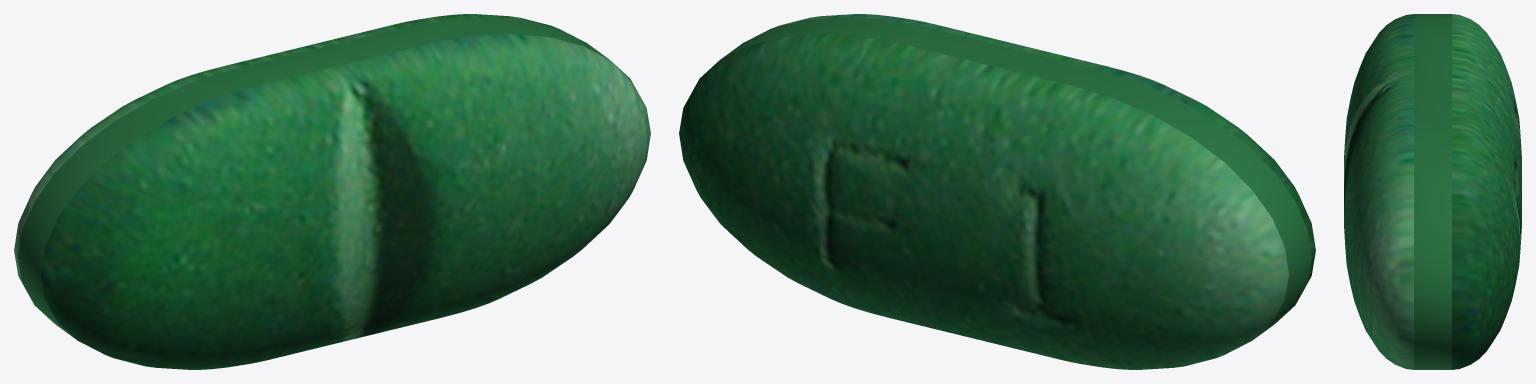
File: 20140311GOPHDRGPT01135.fbx
3 renders of one model, left to right at view 1: azimuth 30°, elevation 25°; view 2: azimuth 150°, elevation 25°; view 3: azimuth 270°, elevation 25°, orthographic. The views are drawn at different scales.
Visible parts, largest first — view 1: 球體; view 2: 球體; view 3: 球體.
Part boxes in pixels (left/top/right/bottom): 球體: left=14, top=14, right=650, bottom=369; 球體: left=679, top=14, right=1315, bottom=369; 球體: left=1344, top=14, right=1521, bottom=369.
Bounding box in the file's own units: 1.1 × 0.4709 × 0.3352.
